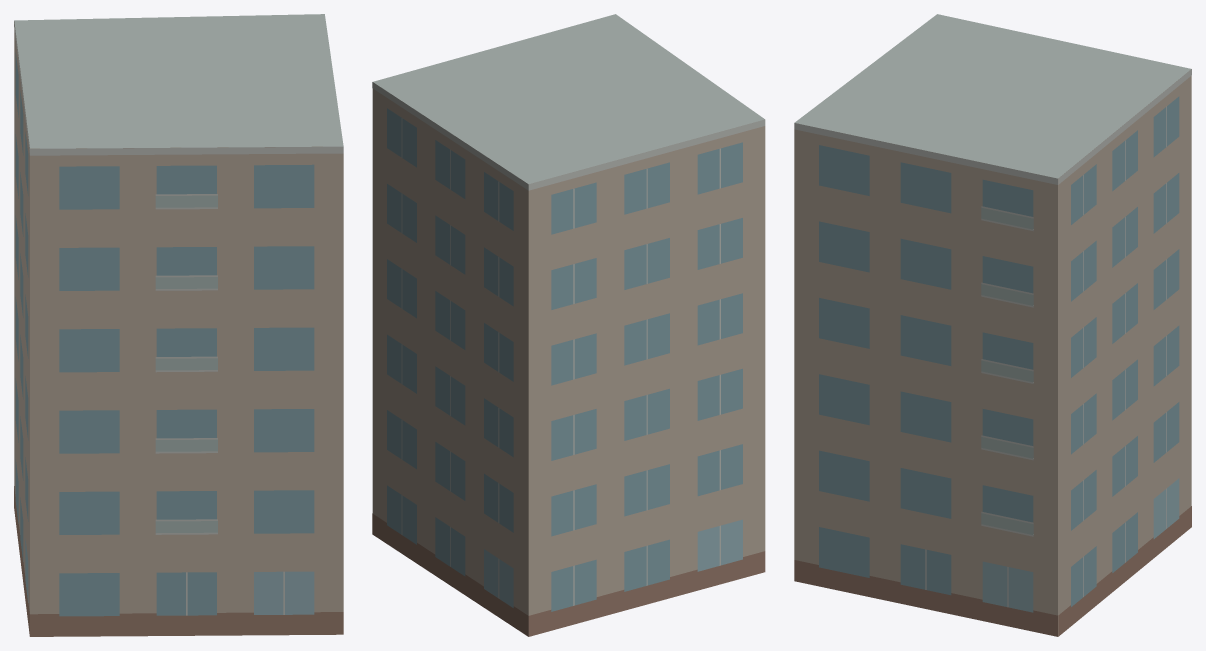
Rendered from survey-upis-32988748.glb.
3 renders of one model, left to right at view 1: azimuth 30°, elevation 25°; view 2: azimuth 150°, elevation 25°; view 3: azimuth 270°, elevation 25°, orthographic. The views are drawn at different scales.
Visible parts, largest first — view 1: survey-upis-32988748.tmp; view 2: survey-upis-32988748.tmp; view 3: survey-upis-32988748.tmp.
Part boxes in pixels (left/top/right/bottom): survey-upis-32988748.tmp: left=14, top=14, right=343, bottom=636; survey-upis-32988748.tmp: left=372, top=14, right=765, bottom=636; survey-upis-32988748.tmp: left=794, top=14, right=1191, bottom=636.
Size of the model in its own units: 13.26 by 17.2 by 13.53.
